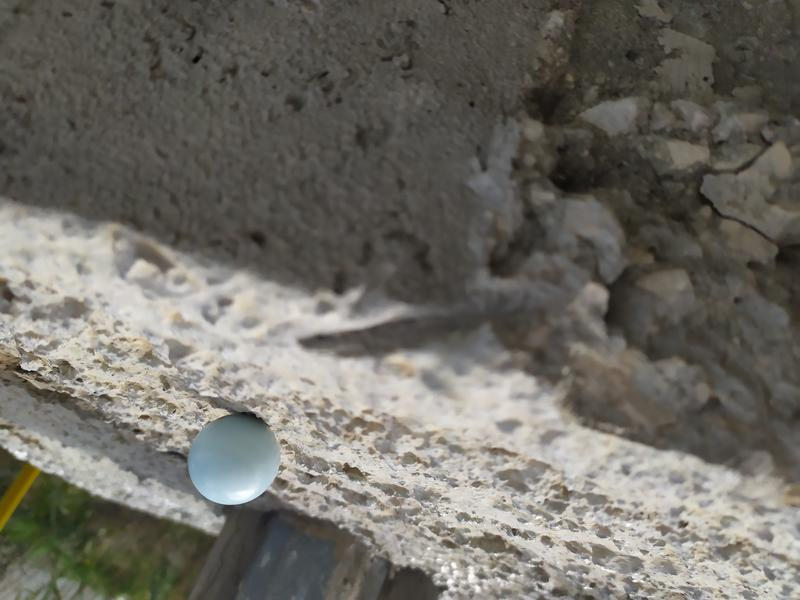Warning: (185, 409, 285, 508)
